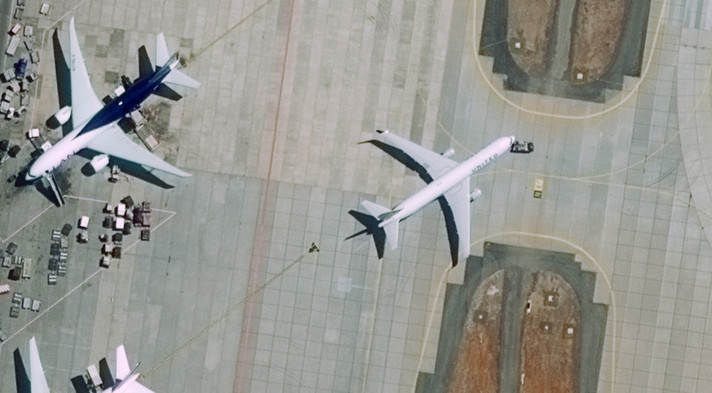aircraft: (22, 15, 206, 192), (356, 130, 519, 257)
